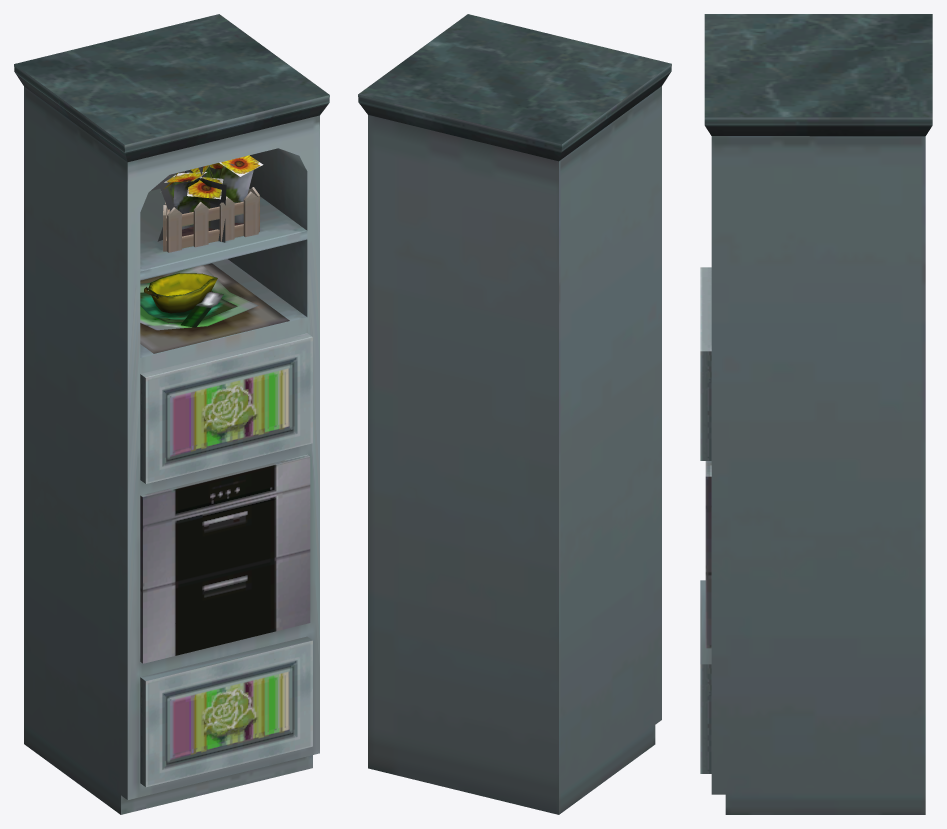
The model's file is furni_0200622_02.FBX.
3 renders of one model, left to right at view 1: azimuth 30°, elevation 25°; view 2: azimuth 150°, elevation 25°; view 3: azimuth 270°, elevation 25°, orthographic. The views are drawn at different scales.
Visible parts, largest first — view 1: furni_0200622_02; view 2: furni_0200622_02; view 3: furni_0200622_02.
Boxes of the visible parts, x1=… form: furni_0200622_02: x1=14, y1=14, x2=329, y2=814; furni_0200622_02: x1=358, y1=14, x2=671, y2=814; furni_0200622_02: x1=700, y1=14, x2=932, y2=814.
Size of the model in its own units: 85.42 by 270 by 81.23.
Materials: 1 (1 with a texture image).
